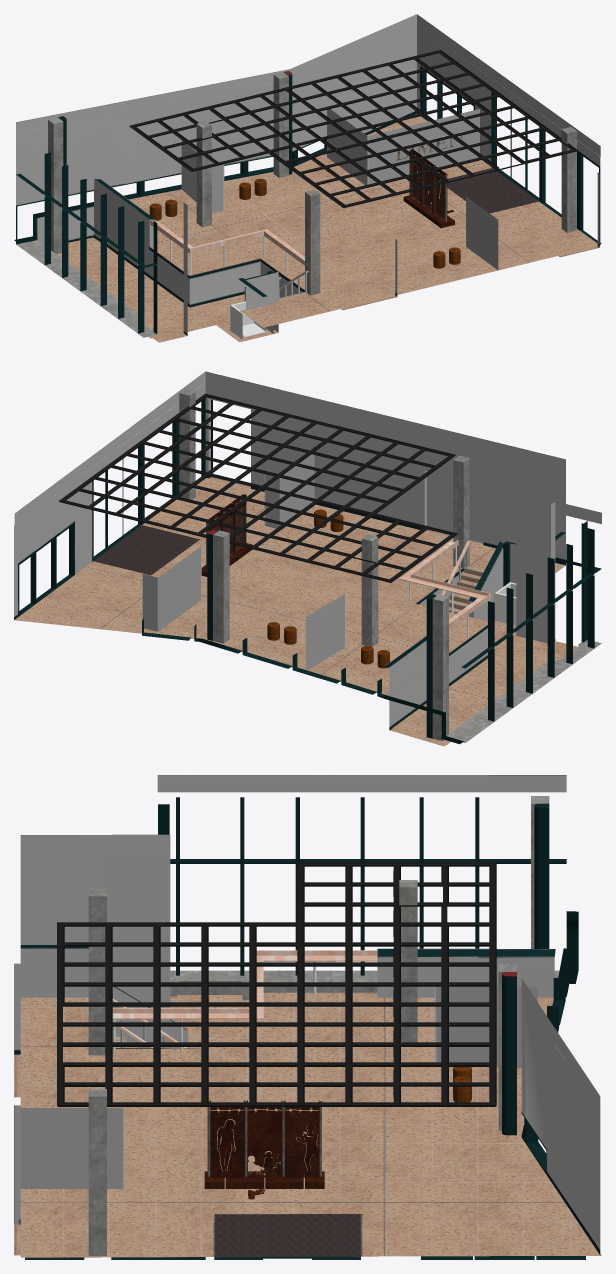
Rendered from exhibition_space_5.glb.
3 views of the same model, one above another, from view 1: azimuth 30°, elevation 25°; view 2: azimuth 150°, elevation 25°; view 3: azimuth 270°, elevation 25° (orthographic). The views are drawn at different scales.
Visible parts, largest first — view 1: polySurface109, scaffolding_geo, pCylinder5, polySurface43; view 2: polySurface109, scaffolding_geo, pCylinder5, polySurface43; view 3: polySurface109, scaffolding_geo, pCylinder5, polySurface43.
Boxes of the visible parts, box(x1,y1,x2,y2) form: polySurface109: box(14, 14, 601, 342); scaffolding_geo: box(129, 50, 577, 208); pCylinder5: box(149, 109, 498, 269); polySurface43: box(403, 149, 454, 228); polySurface109: box(14, 371, 601, 746); scaffolding_geo: box(59, 393, 457, 582); pCylinder5: box(142, 454, 389, 670); polySurface43: box(201, 494, 252, 576); polySurface109: box(14, 775, 601, 1259); scaffolding_geo: box(57, 862, 496, 1106); pCylinder5: box(20, 986, 537, 1188); polySurface43: box(204, 1100, 324, 1199).
Size of the model in its own units: 20 by 6 by 15.27.
5 materials, 4 textured.
